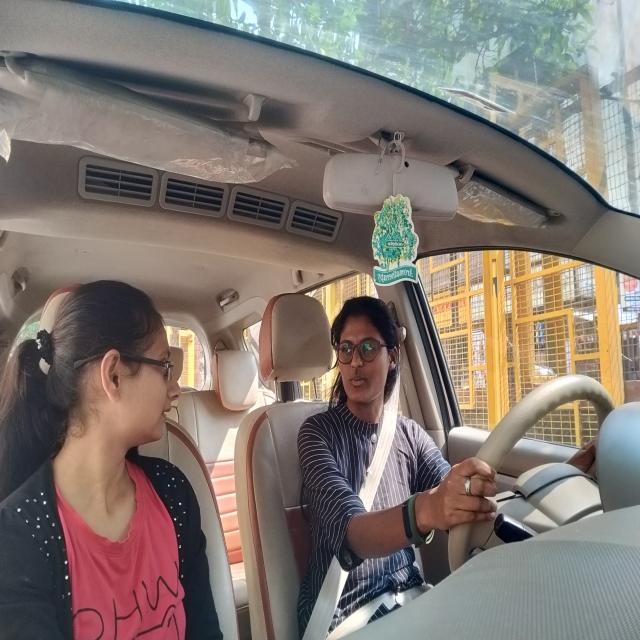LeftRight: (331, 290, 397, 422)
person: (50, 275, 178, 476)
talking: (160, 397, 174, 430), (344, 374, 370, 390)
